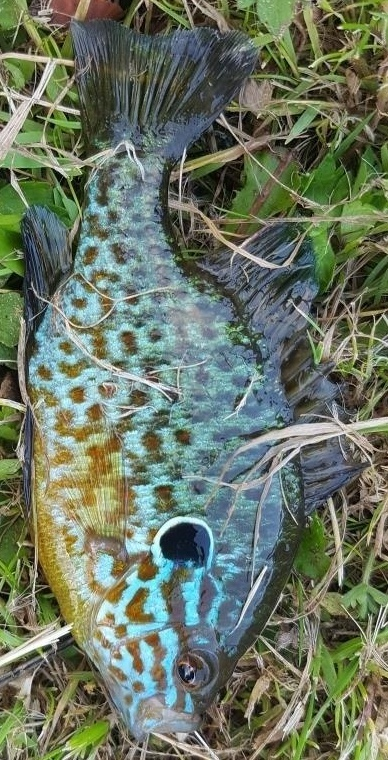Lepomis gibbosus: (20, 20, 368, 740)
